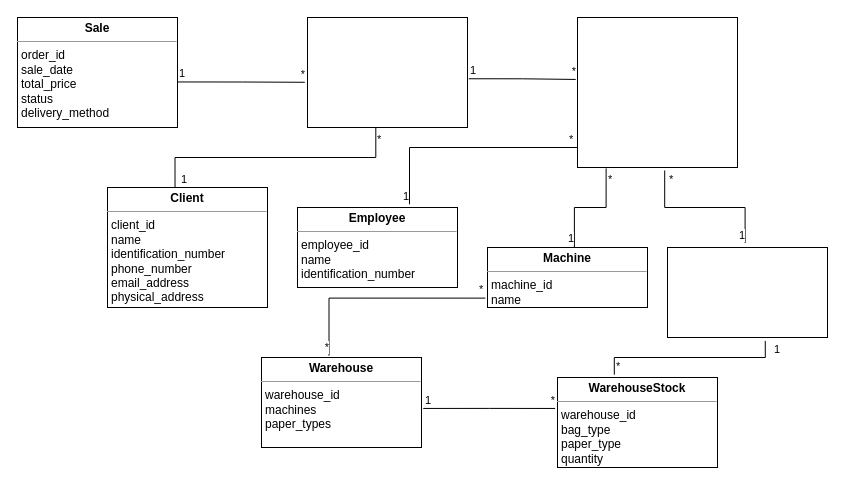
Some shapes in this 845 by 485 pixel diagram are drawn without their labels. The centre of each missing label's shape, as x and y in pixels:
"Item item_id order_id bag_type dimensions machine_id employee_id quantity price" goes at point (657, 92).
"Order order_id client_id date status total_price" goes at point (387, 72).
"PaperBagType bag_type paper_type dimensions machines" goes at point (747, 292).
